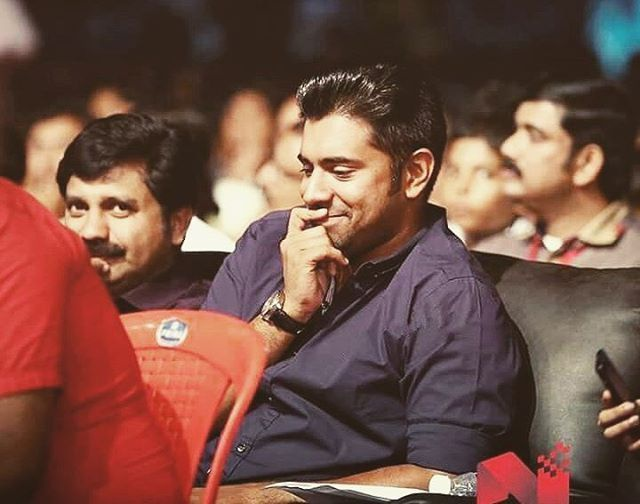bad: (253, 125, 382, 254), (44, 175, 151, 283)
